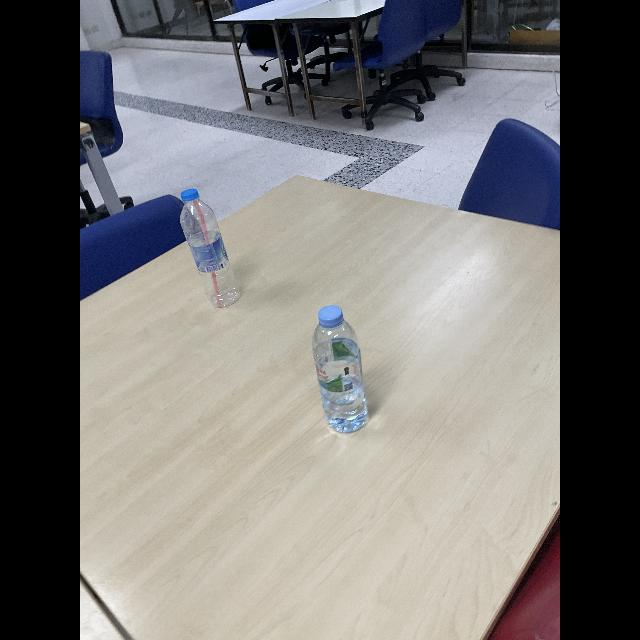plastic_bottle: (172, 184, 245, 310), (312, 302, 374, 436)
plastic_bottle_cap: (317, 304, 343, 328), (177, 186, 206, 204)
straw: (194, 202, 224, 308)
